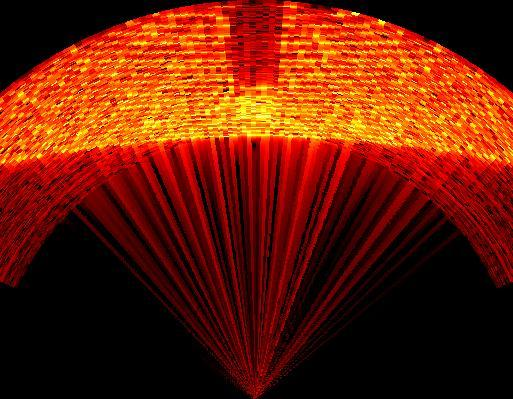box_crate: (226, 2, 284, 86)
